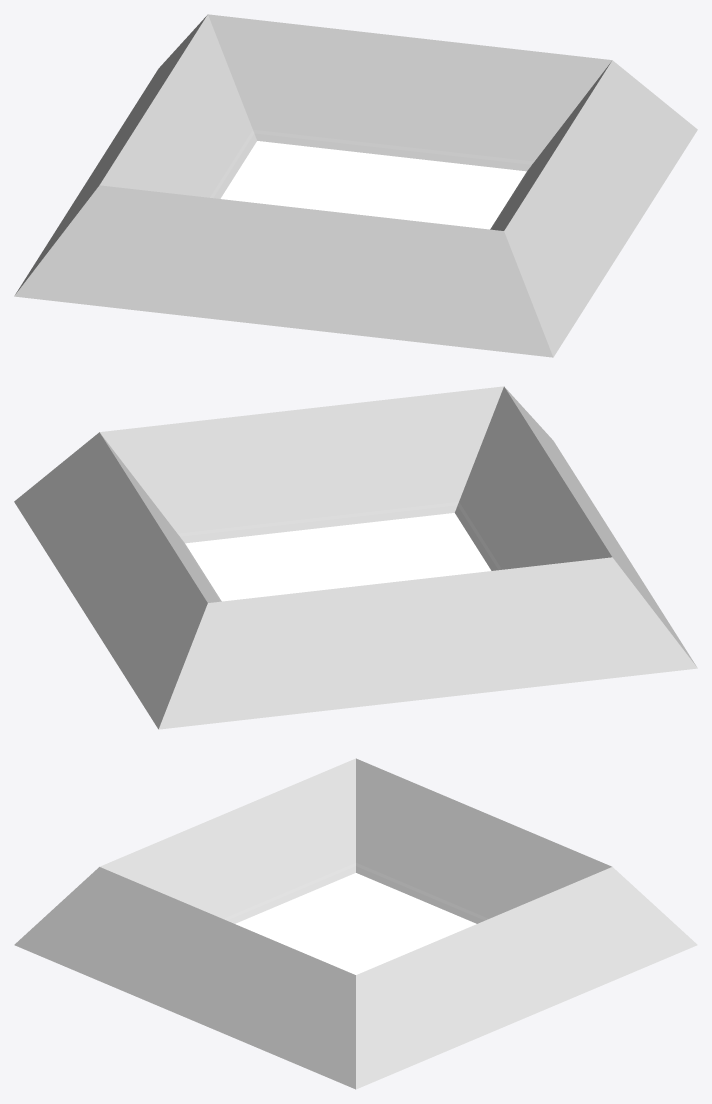
File: Prism.fbx
3 renders of one model, top to bottom at view 1: azimuth 30°, elevation 25°; view 2: azimuth 150°, elevation 25°; view 3: azimuth 270°, elevation 25°, orthographic. The views are drawn at different scales.
Parts seen in each view (by area): view 1: Plane.005, Plane.004; view 2: Plane.005, Plane.004; view 3: Plane.005, Plane.004.
Part boxes in pixels (box(x1,y1,x2,y2)): Plane.005: box(14, 14, 697, 357); Plane.004: box(220, 141, 526, 229); Plane.005: box(14, 386, 697, 729); Plane.004: box(185, 513, 491, 601); Plane.005: box(14, 758, 697, 1089); Plane.004: box(235, 873, 476, 974).
Size of the model in its own units: 0.9899 by 0.125 by 0.9899.
